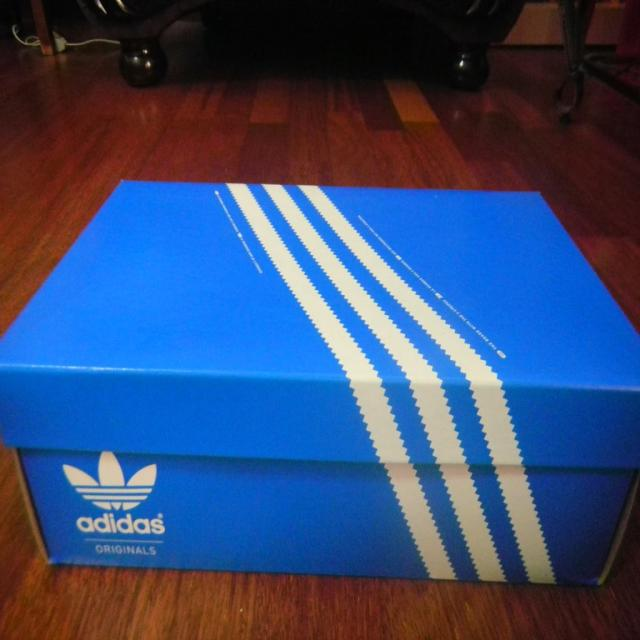adidas: (56, 440, 174, 545)
